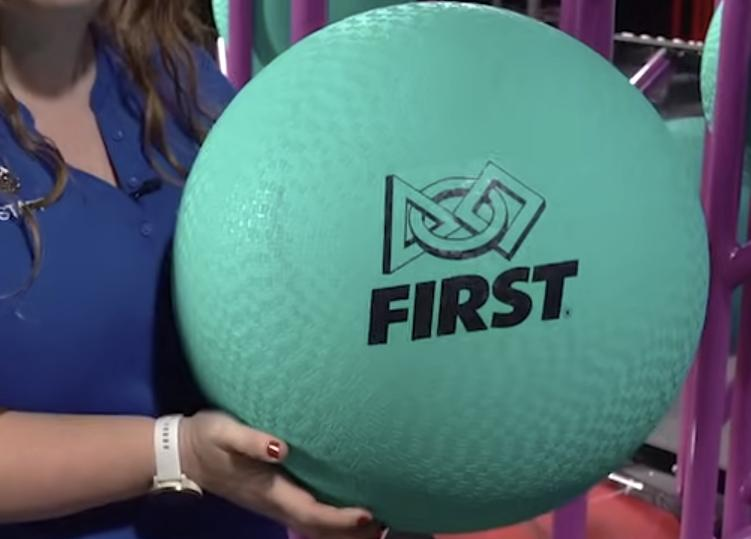algae: (173, 3, 709, 532), (664, 118, 751, 354), (212, 0, 411, 76), (701, 1, 751, 186)
